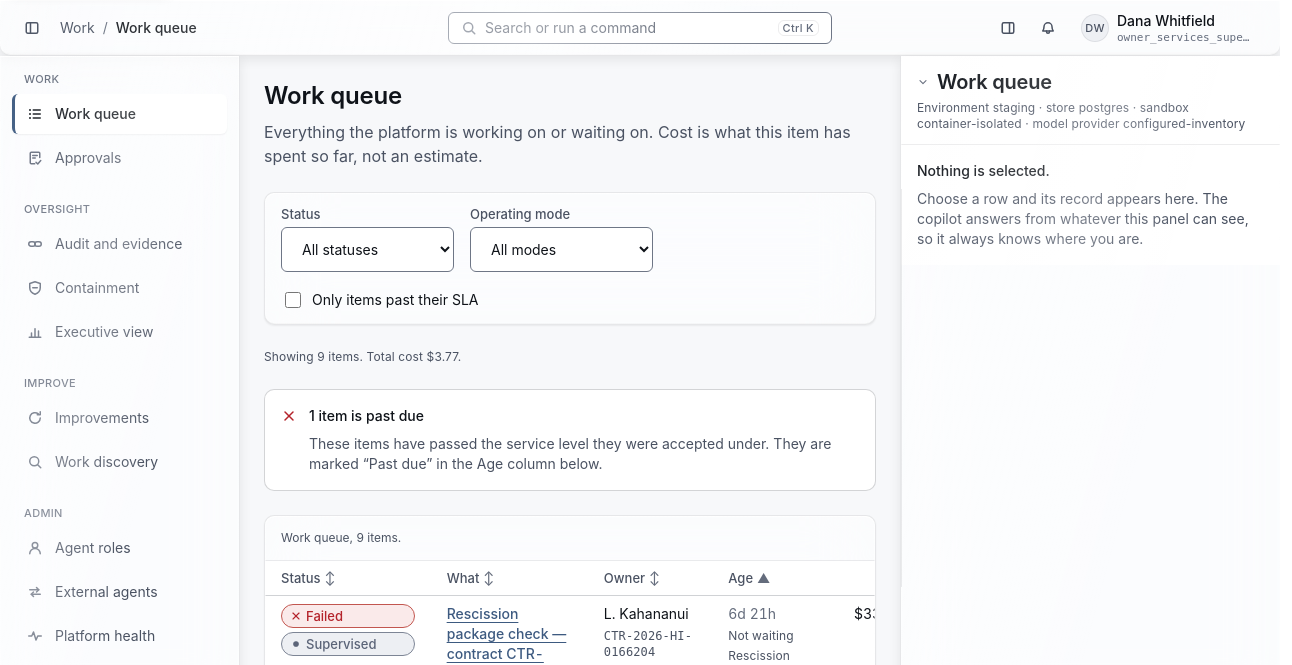
Test: App shell › says where you are, from the zone down
Click the link "Audit and evidence": [105, 244] box top-left (27, 235), bottom-right (182, 252)
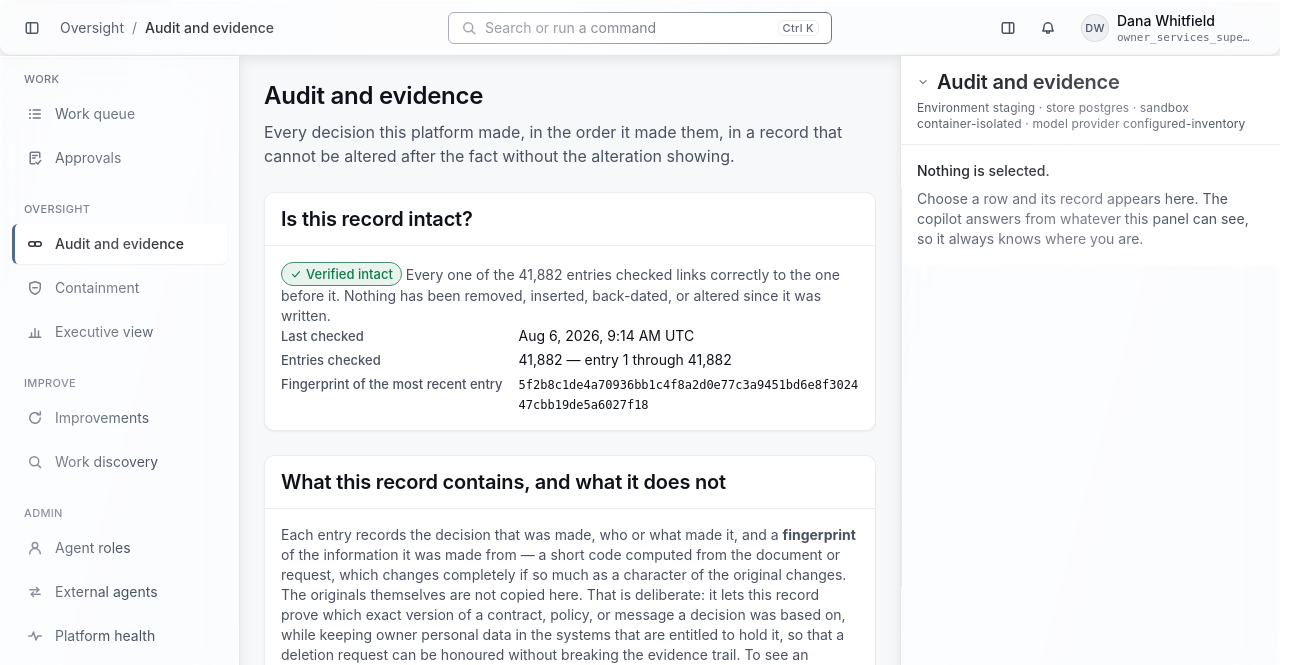
Now the navigation bar named "Breadcrumb" shows "Oversight", box top-left (60, 18), bottom-right (124, 36)
Now the navigation bar named "Breadcrumb" shows "Audit and evidence", box top-left (145, 18), bottom-right (274, 36)
